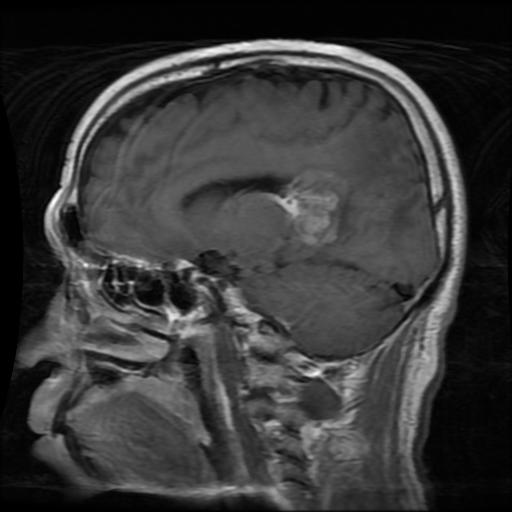Gliomia_tumour: (278, 169, 345, 243)
